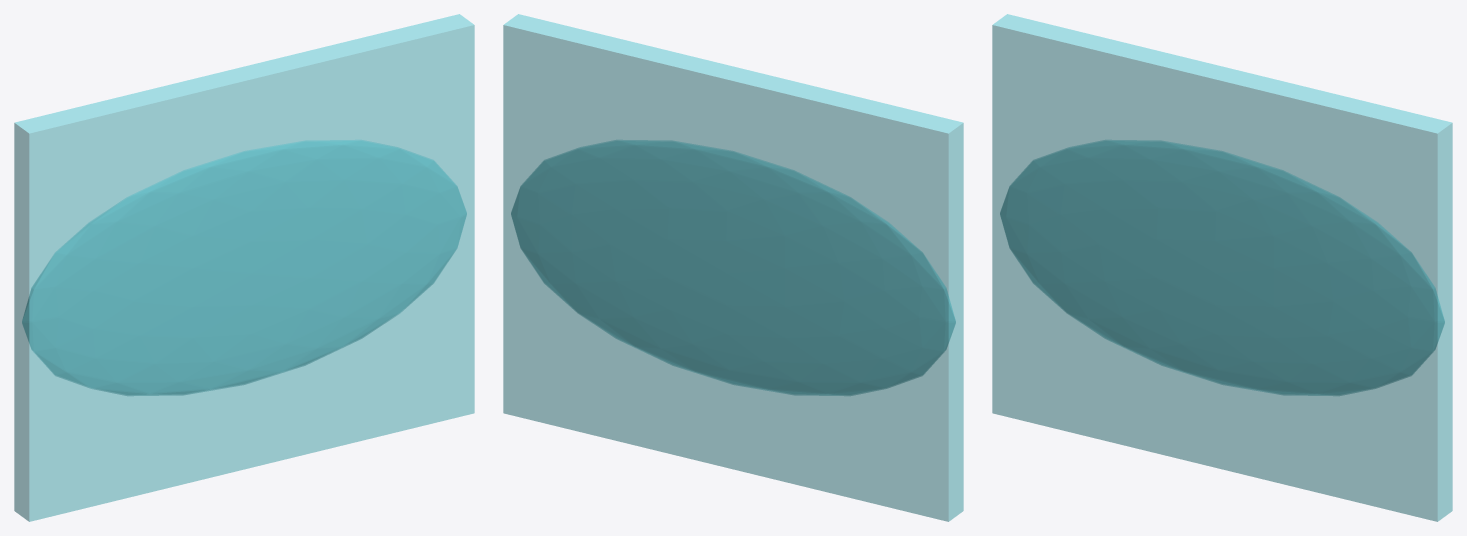
Rendered from dranmar_closure_adhesive_bead.glb.
3 renders of one model, left to right at view 1: azimuth 30°, elevation 25°; view 2: azimuth 150°, elevation 25°; view 3: azimuth 330°, elevation 25°, orthographic.
Visible parts, largest first — view 1: bead; view 2: bead; view 3: bead.
Part boxes in pixels (<box>): bead: <box>14,14,474,521</box>; bead: <box>503,14,963,521</box>; bead: <box>992,14,1452,521</box>.
Bounding box in the file's own units: 0.012 × 0.01 × 0.0007.
